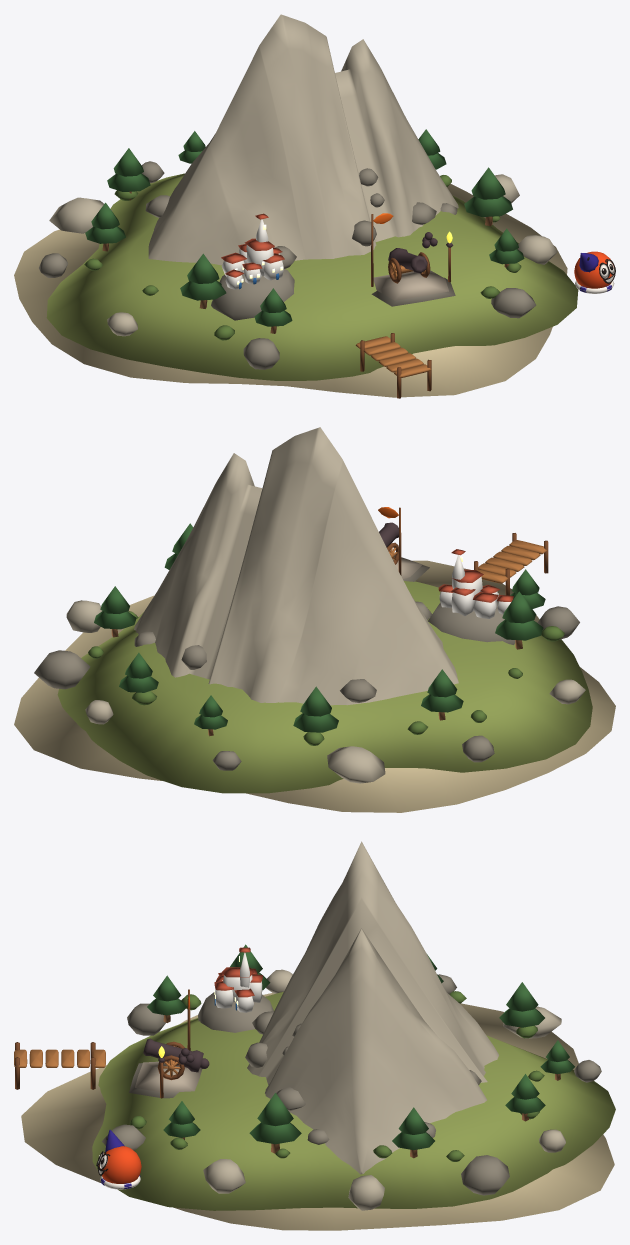
Rendered from canon.glb.
The picture shows the model from 3 angles, top to bottom: view 1: azimuth 30°, elevation 25°; view 2: azimuth 150°, elevation 25°; view 3: azimuth 270°, elevation 25°; orthographic projection. The views are drawn at different scales.
Visible parts, largest first — view 1: canon_isla; view 2: canon_isla; view 3: canon_isla.
Boxes of the visible parts, box(x1,y1,x2,y2) form: canon_isla: box(14, 14, 615, 398); canon_isla: box(14, 427, 615, 812); canon_isla: box(14, 841, 615, 1230).
Size of the model in its own units: 15.7 by 8.3 by 16.56.
